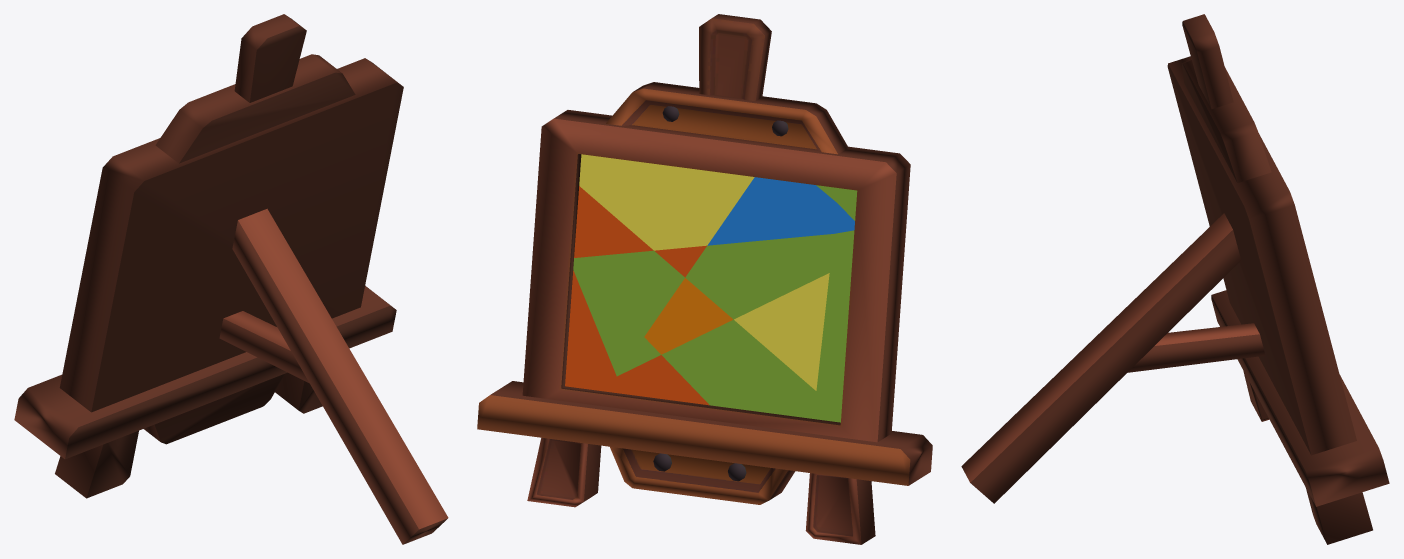
The model's file is CubismOdysseyStatue.fbx.
3 views of the same model, side by side, from view 1: azimuth 30°, elevation 25°; view 2: azimuth 150°, elevation 25°; view 3: azimuth 270°, elevation 25° (orthographic).
Visible parts, largest first — view 1: Cubism; view 2: Cubism; view 3: Cubism.
Part boxes in pixels (left/top/right/bottom): Cubism: left=14, top=14, right=448, bottom=544; Cubism: left=477, top=14, right=932, bottom=544; Cubism: left=961, top=14, right=1389, bottom=544.
Size of the model in its own units: 16.17 by 17.89 by 15.17.
